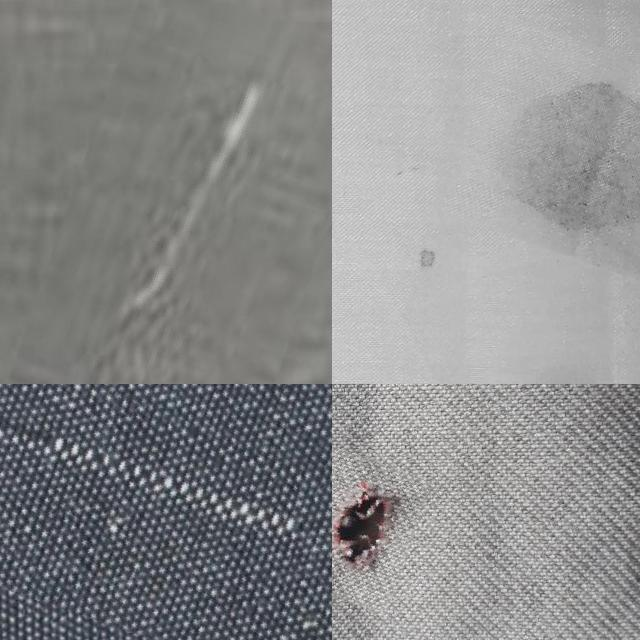Hole: (448, 28, 640, 268), (404, 233, 446, 289)
Thread_other: (29, 0, 332, 384), (0, 384, 332, 640)
seam: (332, 449, 422, 608)
